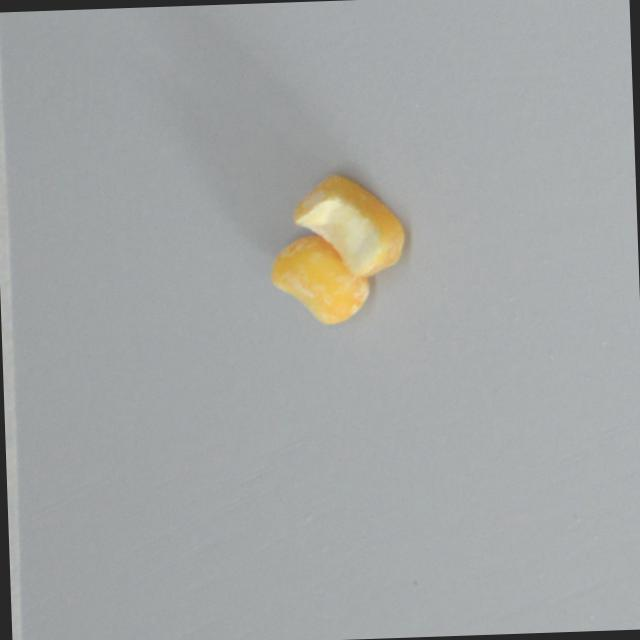no_desgerminado: (284, 165, 408, 281)
pelicula: (262, 229, 373, 332)
